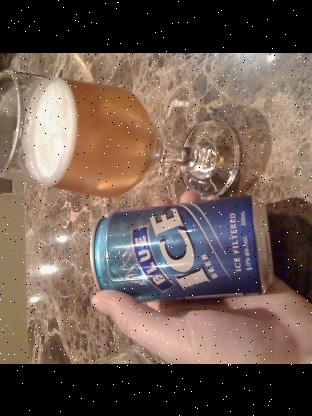Can: (89, 184, 279, 306)
